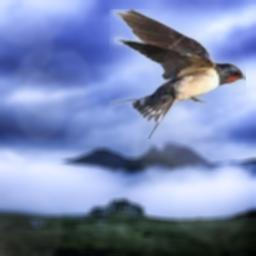Swallow: (109, 9, 246, 139)
